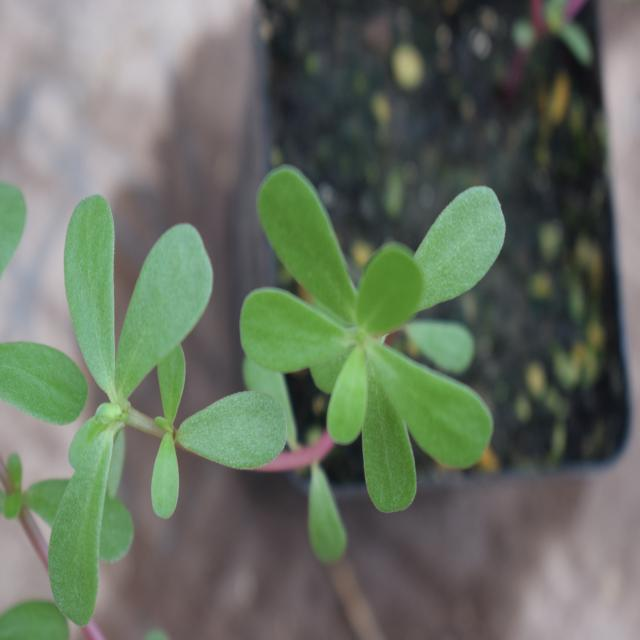purslane: (12, 160, 503, 586)
